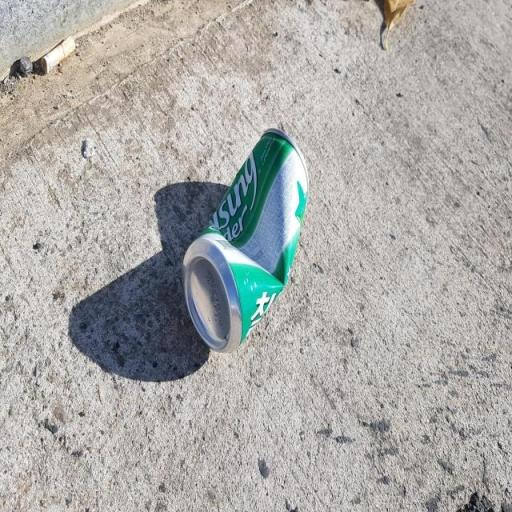metal: (154, 102, 344, 438)
